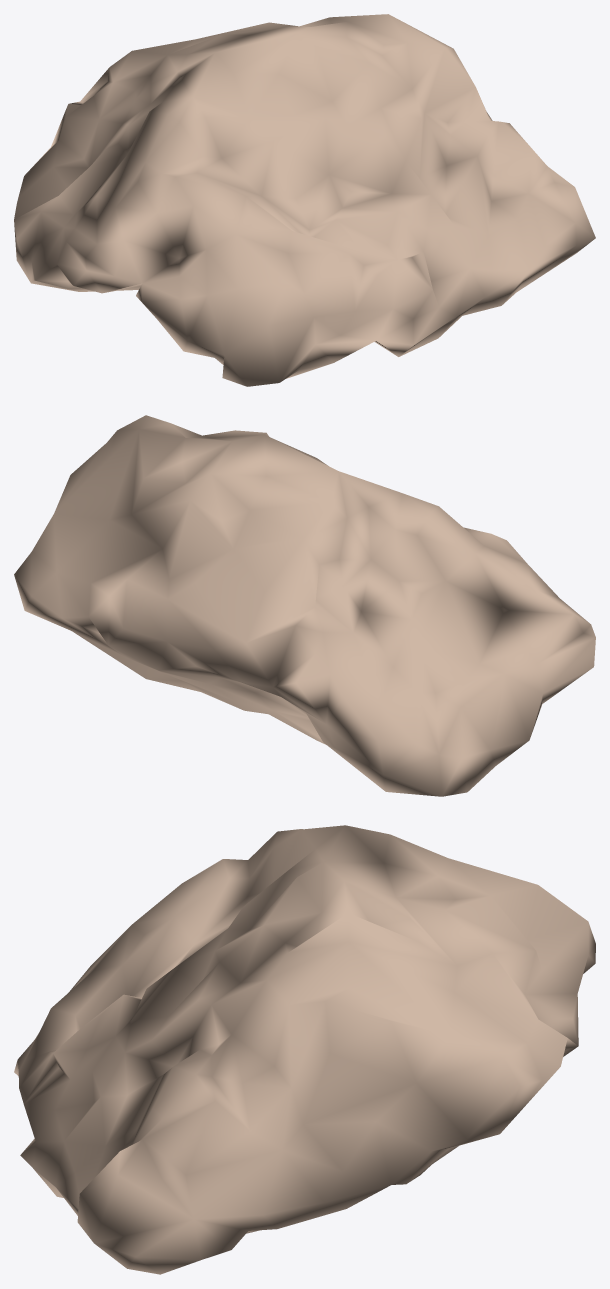
The model's file is rk_stones_0.glb.
3 views of the same model, one above another, from view 1: azimuth 30°, elevation 25°; view 2: azimuth 150°, elevation 25°; view 3: azimuth 270°, elevation 25° (orthographic). The views are drawn at different scales.
Visible parts, largest first — view 1: namaqualand_stones_01_a; view 2: namaqualand_stones_01_a; view 3: namaqualand_stones_01_a.
Part boxes in pixels (x1=…): namaqualand_stones_01_a: x1=14, y1=14, x2=595, y2=386; namaqualand_stones_01_a: x1=14, y1=415, x2=595, y2=796; namaqualand_stones_01_a: x1=14, y1=825, x2=595, y2=1274.
Bounding box in the file's own units: 1 × 0.494 × 0.8174.
